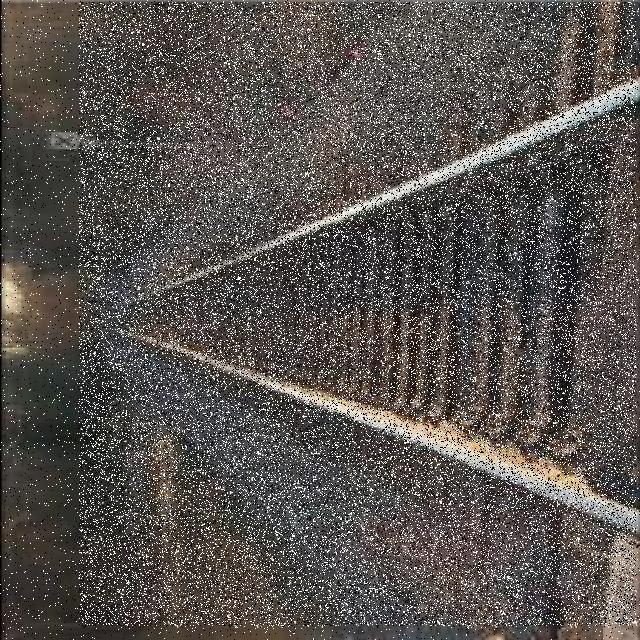rail: (80, 3, 636, 626)
